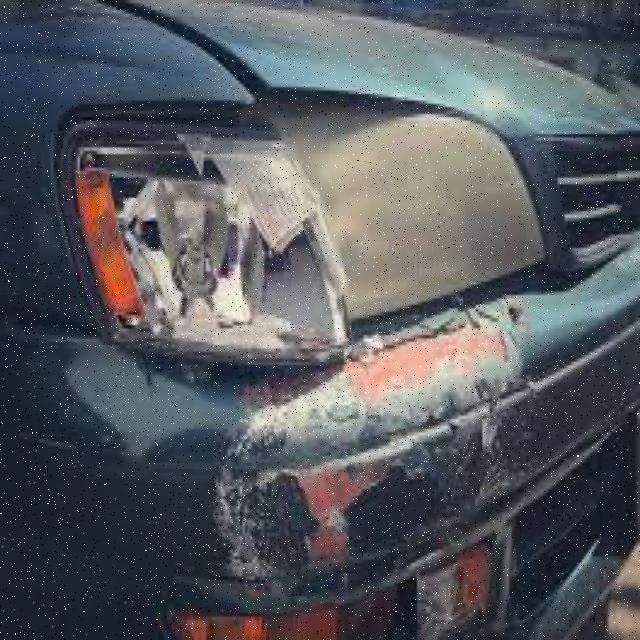Headlight-Damage: (27, 70, 350, 368)
front-bumper-dent: (12, 288, 633, 637)
